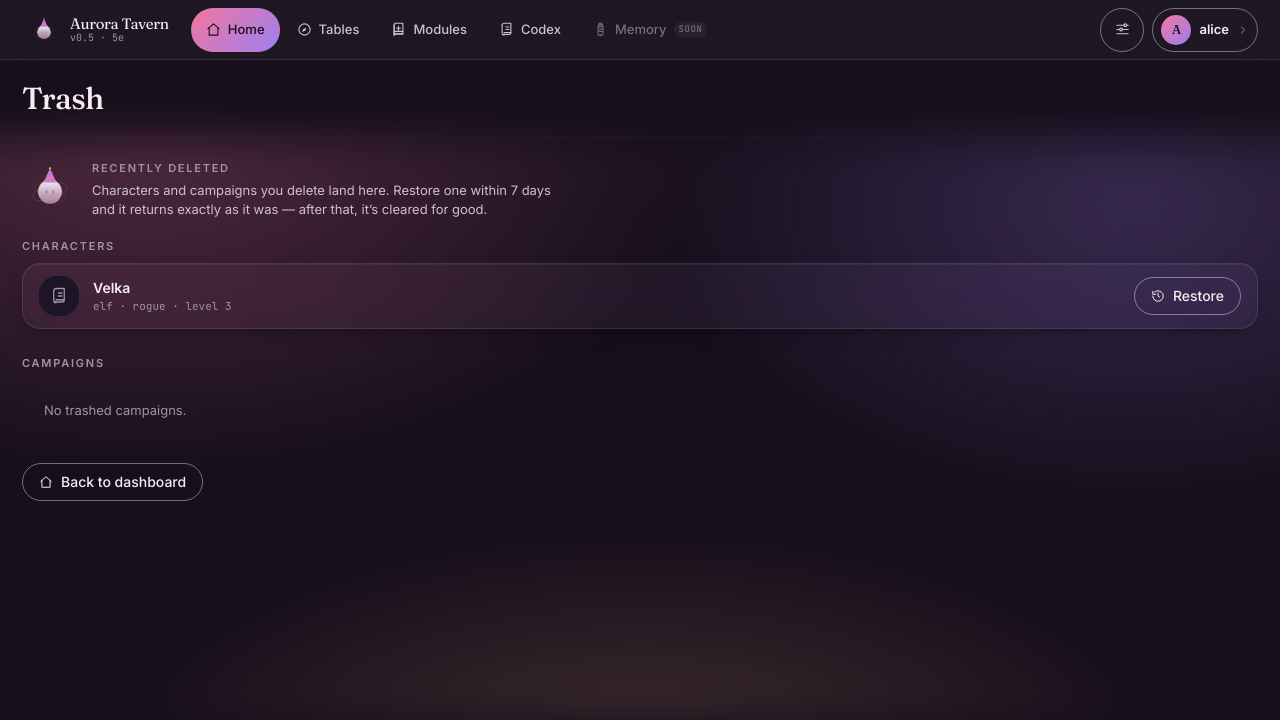
Test: Trash — populated › MAJOR-1 (Tora): with no surviving row, focus lands on "Back to dashboard" on close
Click the button with aria-label "restore velka": [1187, 296] box [1134,277,1241,315]
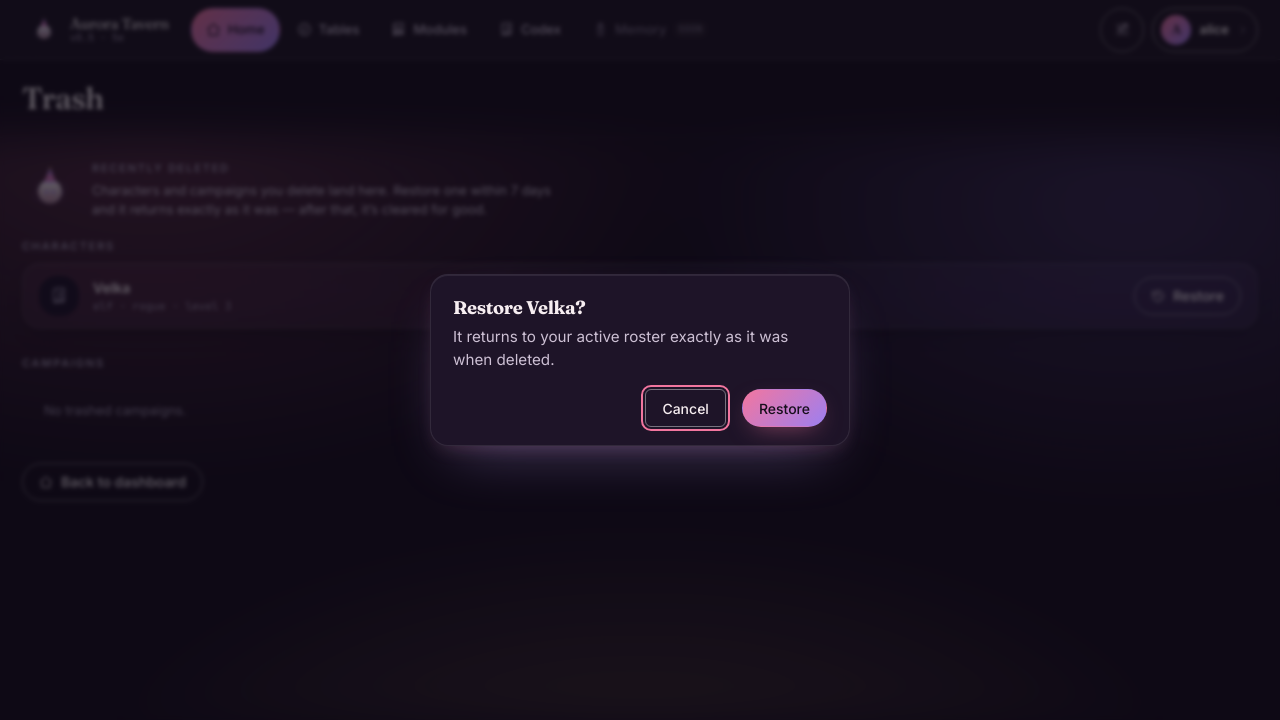
Click the button "Restore": [784, 408] box [742,389,827,427]
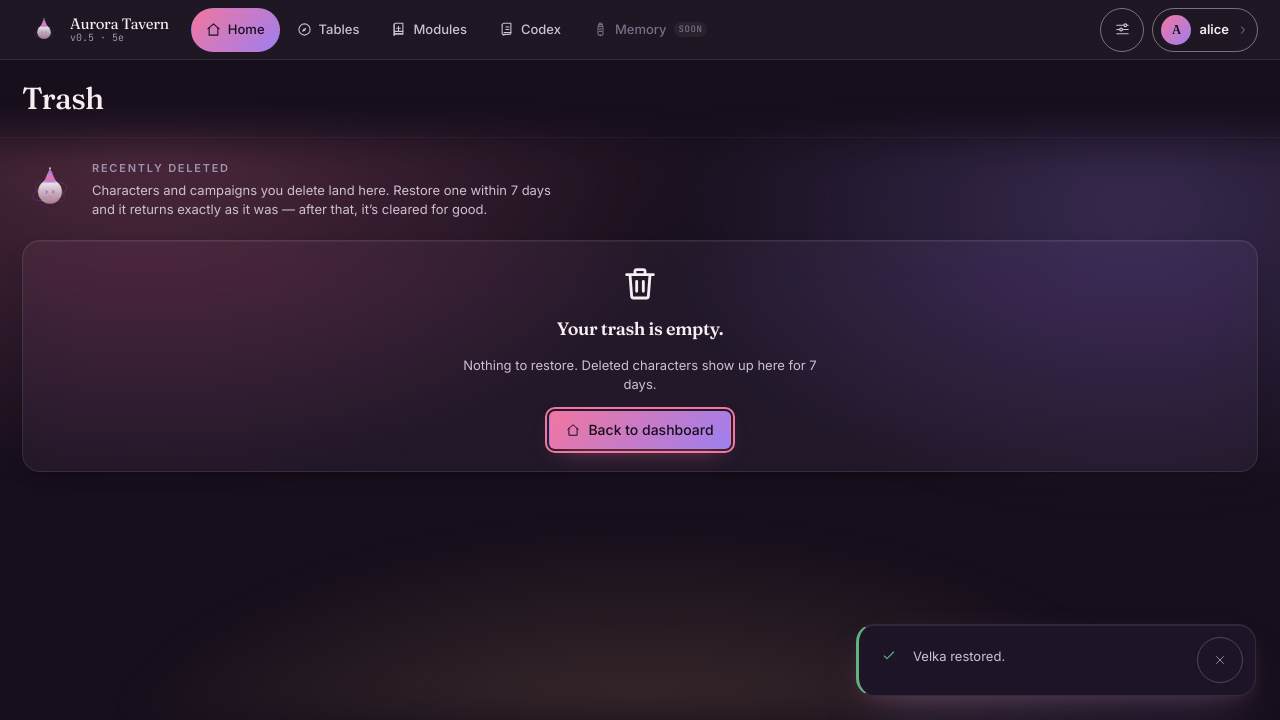
Check: the dialog is gone
